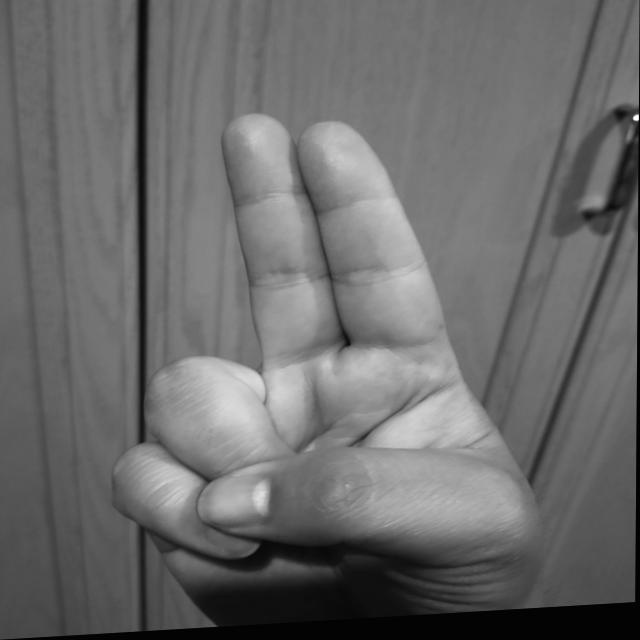U: (98, 96, 563, 634)
